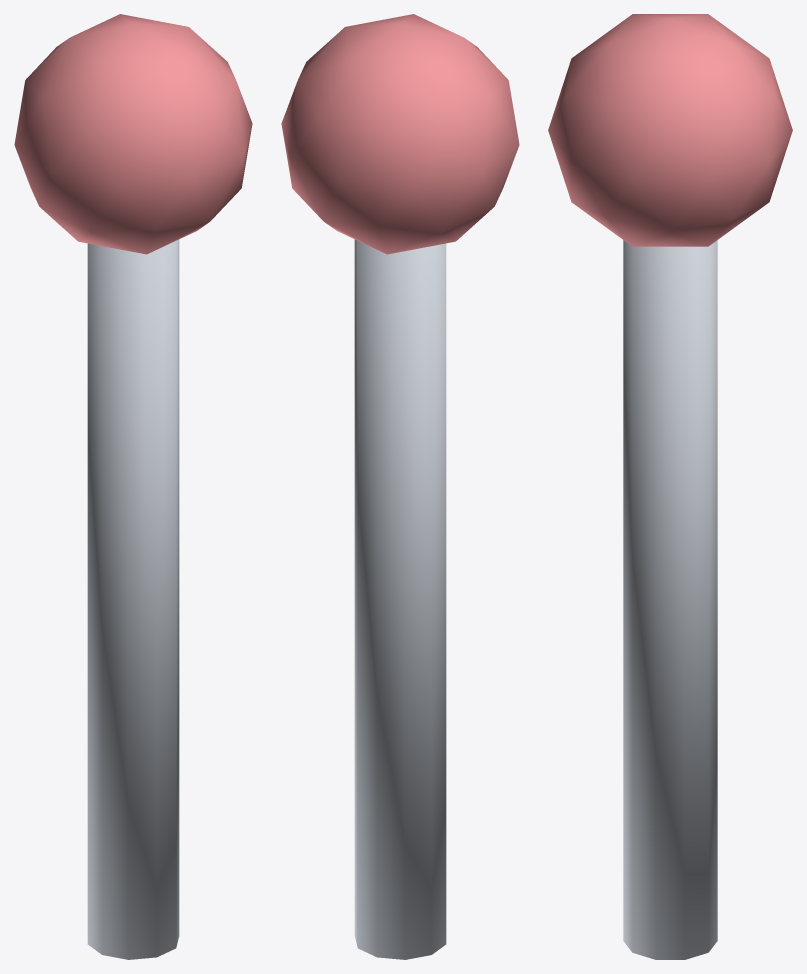
Rendered from fx_lever_handle.glb.
3 views of the same model, side by side, from view 1: azimuth 30°, elevation 25°; view 2: azimuth 150°, elevation 25°; view 3: azimuth 270°, elevation 25° (orthographic).
Parts seen in each view (by area): view 1: fx_lever_handle; view 2: fx_lever_handle; view 3: fx_lever_handle.
Part boxes in pixels (bbox=[...]): fx_lever_handle: bbox=[14, 14, 252, 959]; fx_lever_handle: bbox=[281, 14, 519, 959]; fx_lever_handle: bbox=[548, 14, 792, 959].
Size of the model in its own units: 0.2473 by 1.08 by 0.26.
